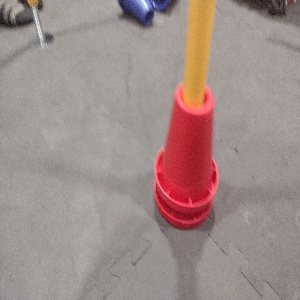Blue_1: (115, 0, 158, 31)
Red_2: (153, 77, 220, 228)
